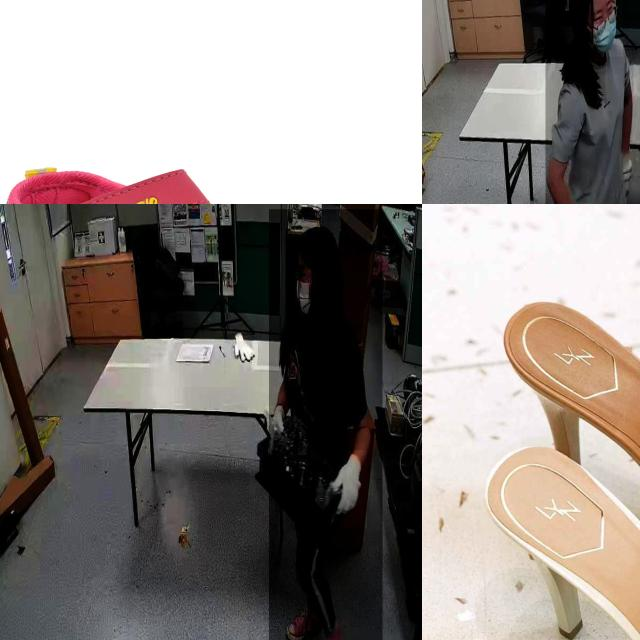Sandals: (474, 268, 640, 590), (457, 432, 640, 640)
face_mask: (581, 0, 623, 56), (293, 268, 315, 318)
glasses: (593, 4, 617, 34)
hand_glove: (330, 450, 368, 528), (266, 406, 288, 448)
head_nohelmet: (295, 222, 341, 260)
person: (269, 209, 383, 640), (545, 0, 640, 204)
shoes: (284, 598, 319, 640)
